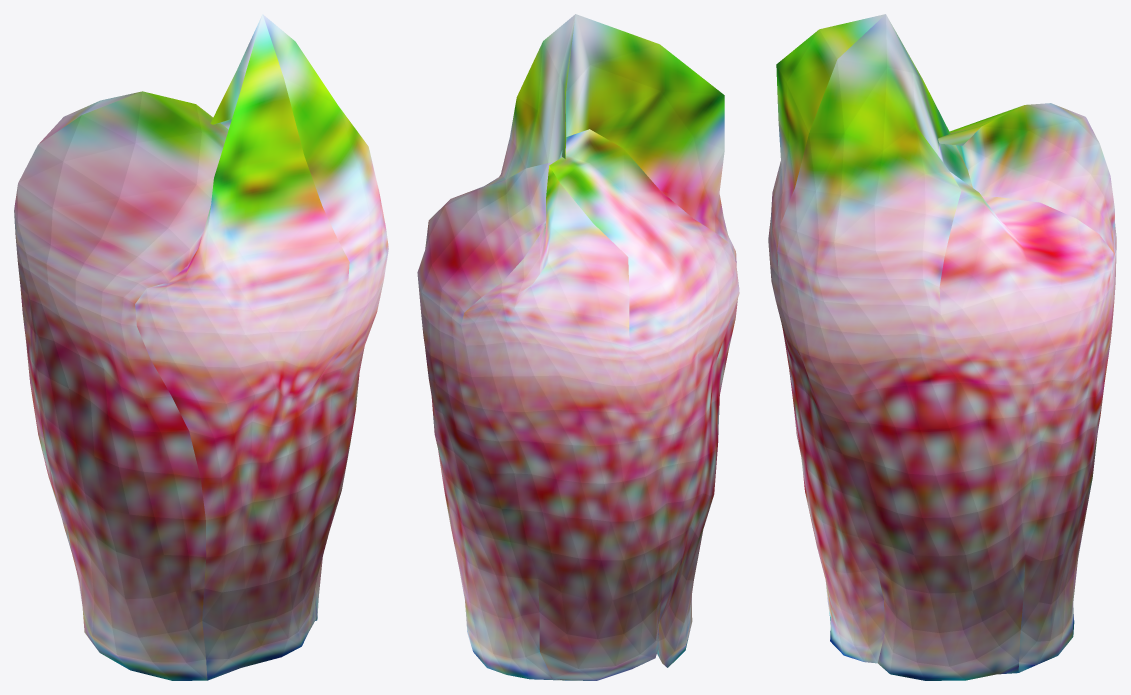
The model's file is strawberry_smoothie.gltf.
3 renders of one model, left to right at view 1: azimuth 30°, elevation 25°; view 2: azimuth 150°, elevation 25°; view 3: azimuth 270°, elevation 25°, orthographic. The views are drawn at different scales.
Parts seen in each view (by area): view 1: pMesh1; view 2: pMesh1; view 3: pMesh1.
Boxes of the visible parts, <box> form: pMesh1: <box>14,14,388,680</box>; pMesh1: <box>417,14,739,680</box>; pMesh1: <box>768,14,1116,680</box>.
Size of the model in its own units: 1.86 by 3.94 by 1.94.
1 material, 1 textured.
